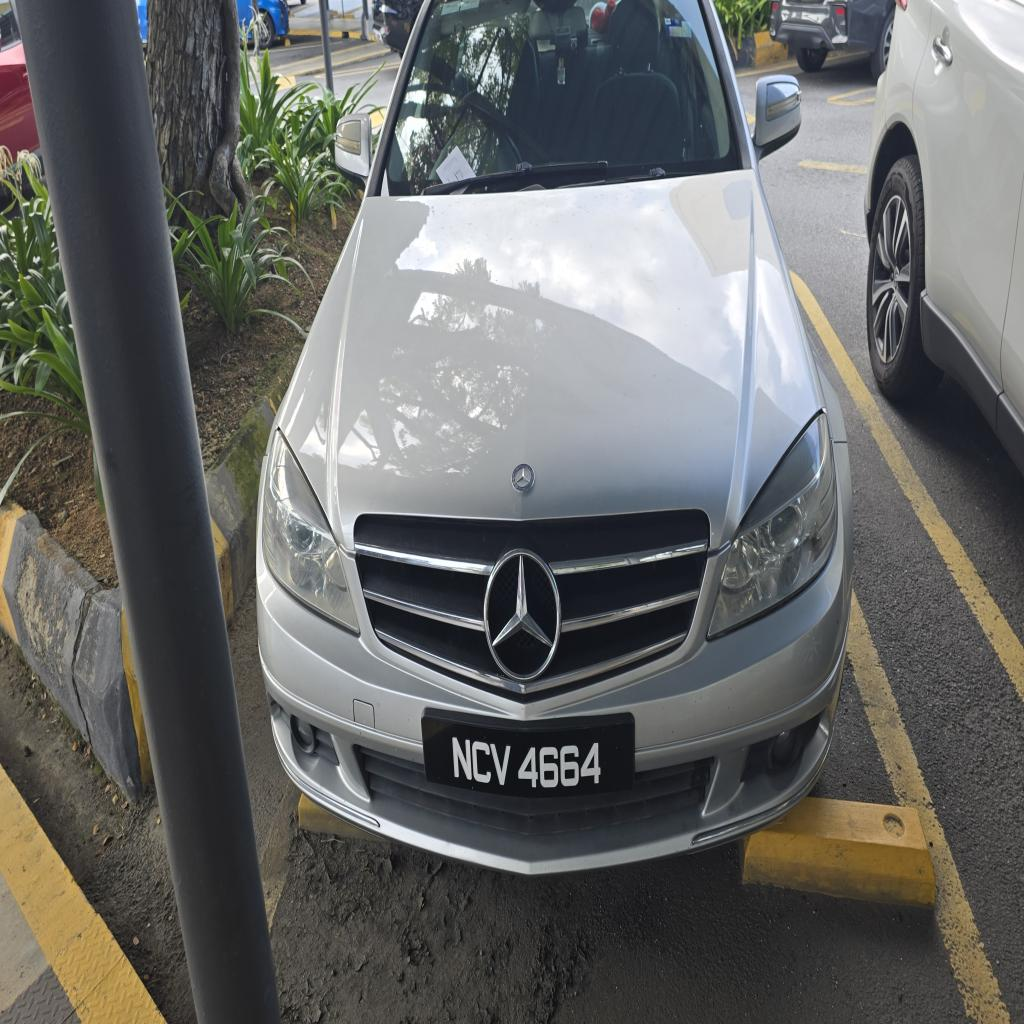car: (257, 0, 852, 872)
car plate: (422, 712, 634, 797)
